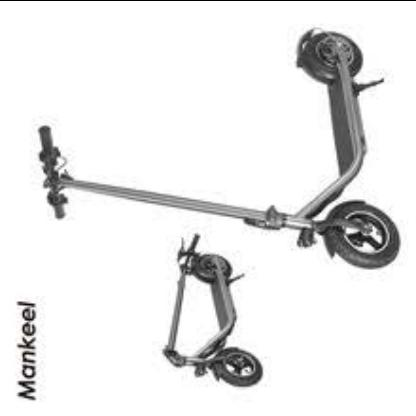bike: (31, 26, 401, 390), (33, 28, 401, 271)
